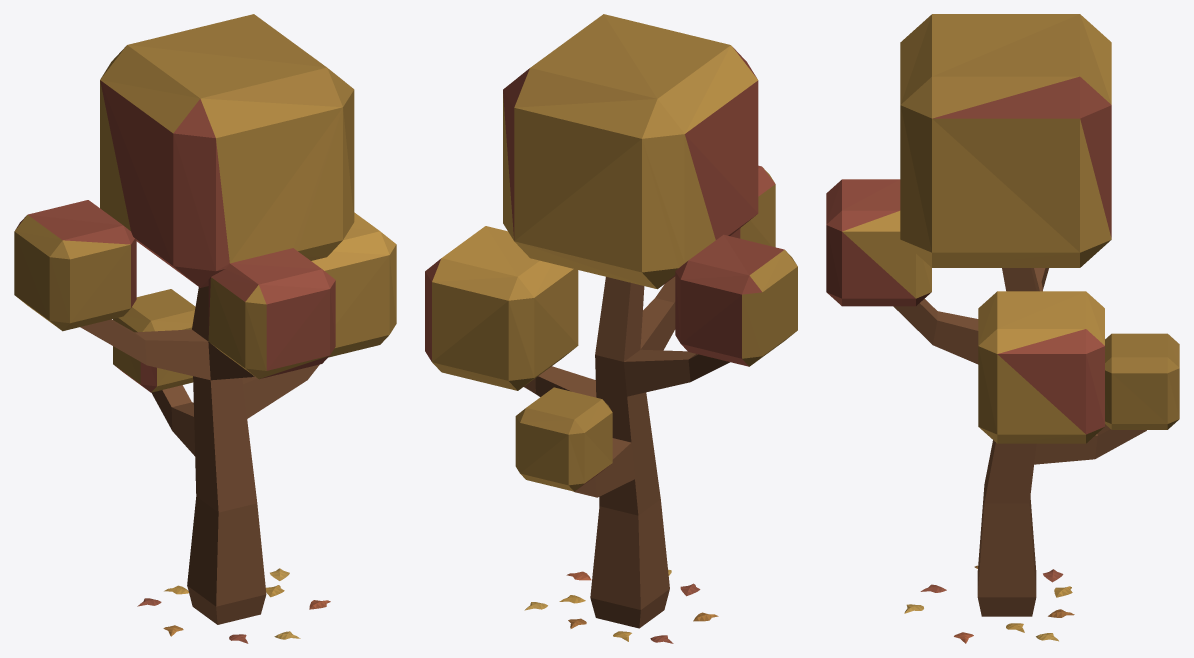
File: tree_detailed_autumn.glb
3 views of the same model, side by side, from view 1: azimuth 30°, elevation 25°; view 2: azimuth 150°, elevation 25°; view 3: azimuth 270°, elevation 25° (orthographic).
Parts seen in each view (by area): view 1: geometry; view 2: geometry; view 3: geometry.
Boxes of the visible parts, left/top/right/bottom form: geometry: left=14, top=14, right=396, bottom=643; geometry: left=425, top=14, right=797, bottom=643; geometry: left=826, top=14, right=1179, bottom=643.
Size of the model in its own units: 0.8471 by 1.33 by 0.7616.
